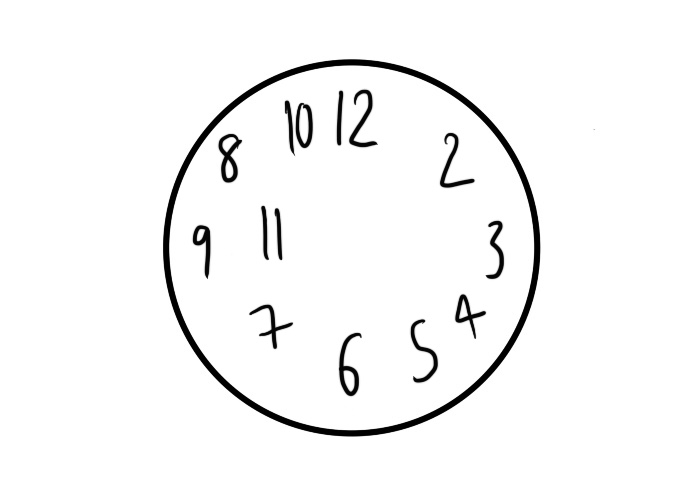eight: (216, 132, 243, 185)
eleven: (257, 204, 287, 264)
five: (406, 316, 440, 386)
four: (452, 292, 487, 341)
nine: (191, 222, 214, 279)
seven: (244, 299, 295, 352)
six: (339, 328, 363, 399)
ten: (282, 97, 314, 155)
three: (485, 217, 507, 282)
twelve: (335, 85, 377, 149)
two: (435, 129, 475, 191)
